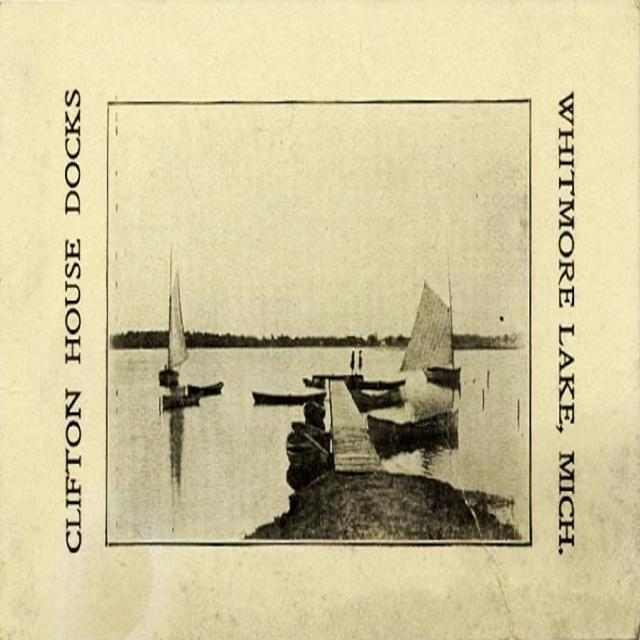Boat: (351, 281, 463, 422), (363, 394, 466, 459), (158, 250, 189, 388)
